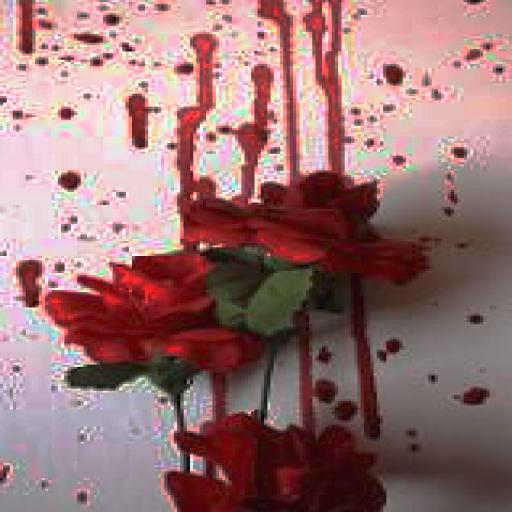rose: (52, 250, 244, 396), (180, 164, 422, 278), (174, 414, 406, 512)
